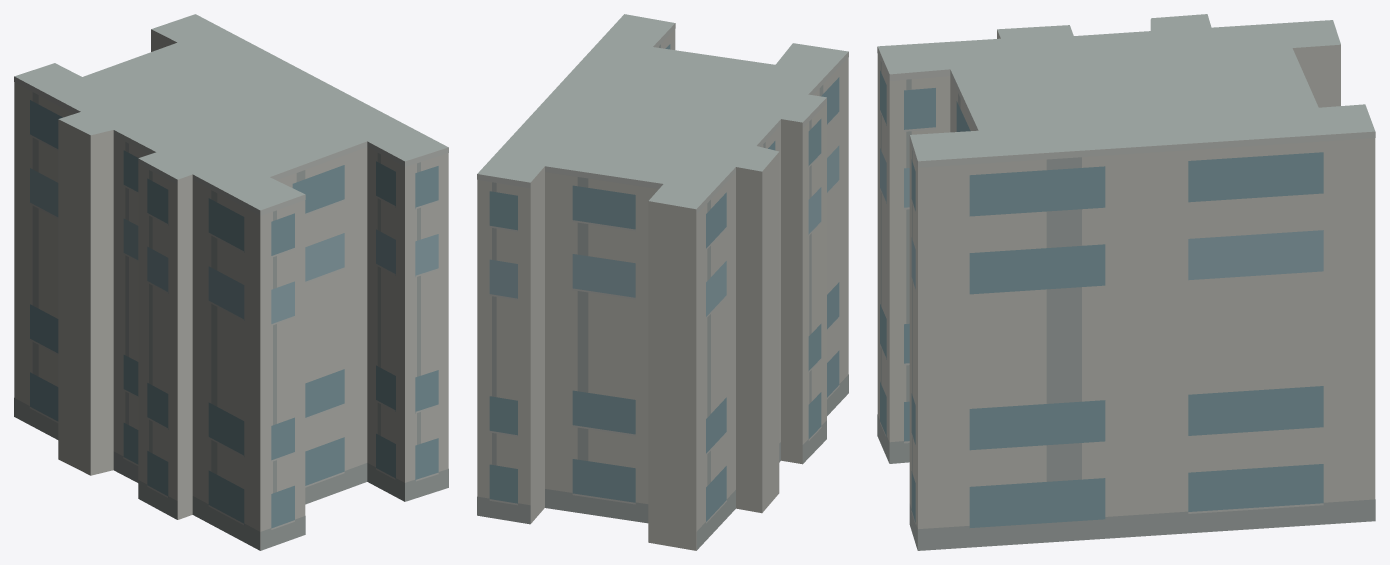
Rendered from survey-upis-32638688.glb.
3 renders of one model, left to right at view 1: azimuth 30°, elevation 25°; view 2: azimuth 150°, elevation 25°; view 3: azimuth 270°, elevation 25°, orthographic. The views are drawn at different scales.
Parts seen in each view (by area): view 1: survey-upis-32638688.tmp; view 2: survey-upis-32638688.tmp; view 3: survey-upis-32638688.tmp.
Boxes of the visible parts, bbox=[...] form: survey-upis-32638688.tmp: bbox=[14, 14, 448, 550]; survey-upis-32638688.tmp: bbox=[477, 14, 848, 550]; survey-upis-32638688.tmp: bbox=[877, 14, 1375, 550].
Size of the model in its own units: 11.72 by 14.44 by 16.74.
